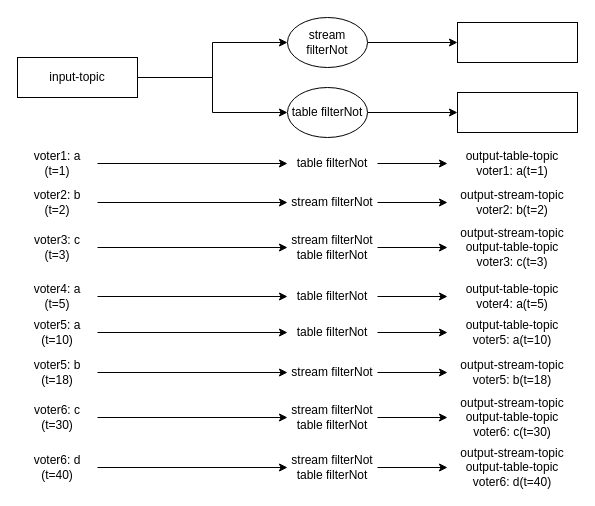
Image size: 595x506. Some labels were removed from this diagram. Each missing label, with the centre of its shape:
output-stream-topic: pixel 517 42
output-table-topic: pixel 517 112
